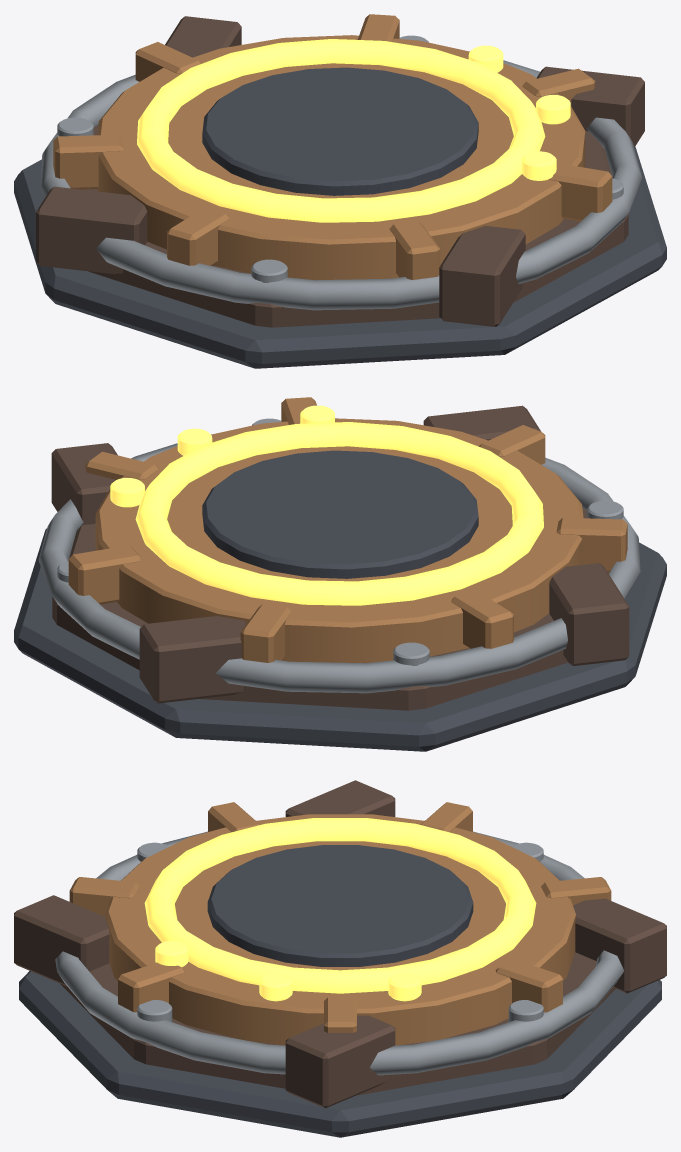
Rendered from cannon_base_l3.glb.
3 renders of one model, top to bottom at view 1: azimuth 30°, elevation 25°; view 2: azimuth 150°, elevation 25°; view 3: azimuth 270°, elevation 25°, orthographic. The views are drawn at different scales.
Parts seen in each view (by area): view 1: Cylinder.002, Cylinder, Cylinder.003, Torus.001, Torus, Cylinder.001, Cube.009, Cube.010, Cube.007, Cube.003, Cube.006, Cube.004 (+10 smaller); view 2: Cylinder.002, Cylinder, Cylinder.003, Torus.001, Torus, Cylinder.001, Cube.008, Cube.009, Cube.007, Cube.001, Cube.003, Cube.004 (+10 smaller); view 3: Cylinder.002, Cylinder, Cylinder.003, Torus.001, Torus, Cylinder.001, Cube.007, Cube.010, Cube.008, Cube.009, Cube.001, Cube.006 (+10 smaller).
Part boxes in pixels (x1,y1,x2,y2): Cylinder.002: (97,35,585,279); Cylinder: (14,146,666,368); Cylinder.003: (202,67,478,195); Torus.001: (137,39,545,222); Torus: (40,60,642,310); Cylinder.001: (83,125,628,327); Cube.009: (36,186,147,274); Cube.010: (439,225,525,326); Cube.007: (536,66,644,147); Cube.003: (53,134,124,189); Cube.006: (548,163,612,221); Cube.004: (167,207,229,265); Cylinder.002: (95,418,583,662); Cylinder: (14,528,666,751); Cylinder.003: (202,450,478,578); Torus.001: (135,422,543,605); Torus: (38,443,640,693); Cylinder.001: (52,508,608,710); Cube.008: (139,616,246,703); Cube.009: (549,563,629,665); Cube.007: (51,443,117,525); Cube.001: (68,545,142,604); Cube.003: (451,590,513,648); Cube.004: (556,517,627,572); Cylinder.002: (105,814,575,1045); Cylinder: (19,971,661,1137); Cylinder.003: (207,845,473,966); Torus.001: (144,818,536,993); Torus: (55,831,623,1075); Cylinder.001: (60,952,615,1095); Cube.007: (285,1015,395,1108); Cube.010: (14,895,109,986); Cube.008: (573,898,666,993); Cube.009: (285,780,395,816); Cube.001: (495,959,562,1012); Cube.006: (118,962,185,1012).
Size of the model in its own units: 2.16 by 0.4 by 2.16.
